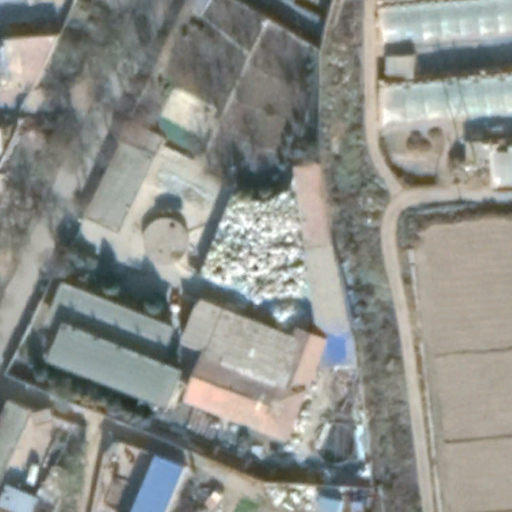msw: (205, 191, 309, 306)
